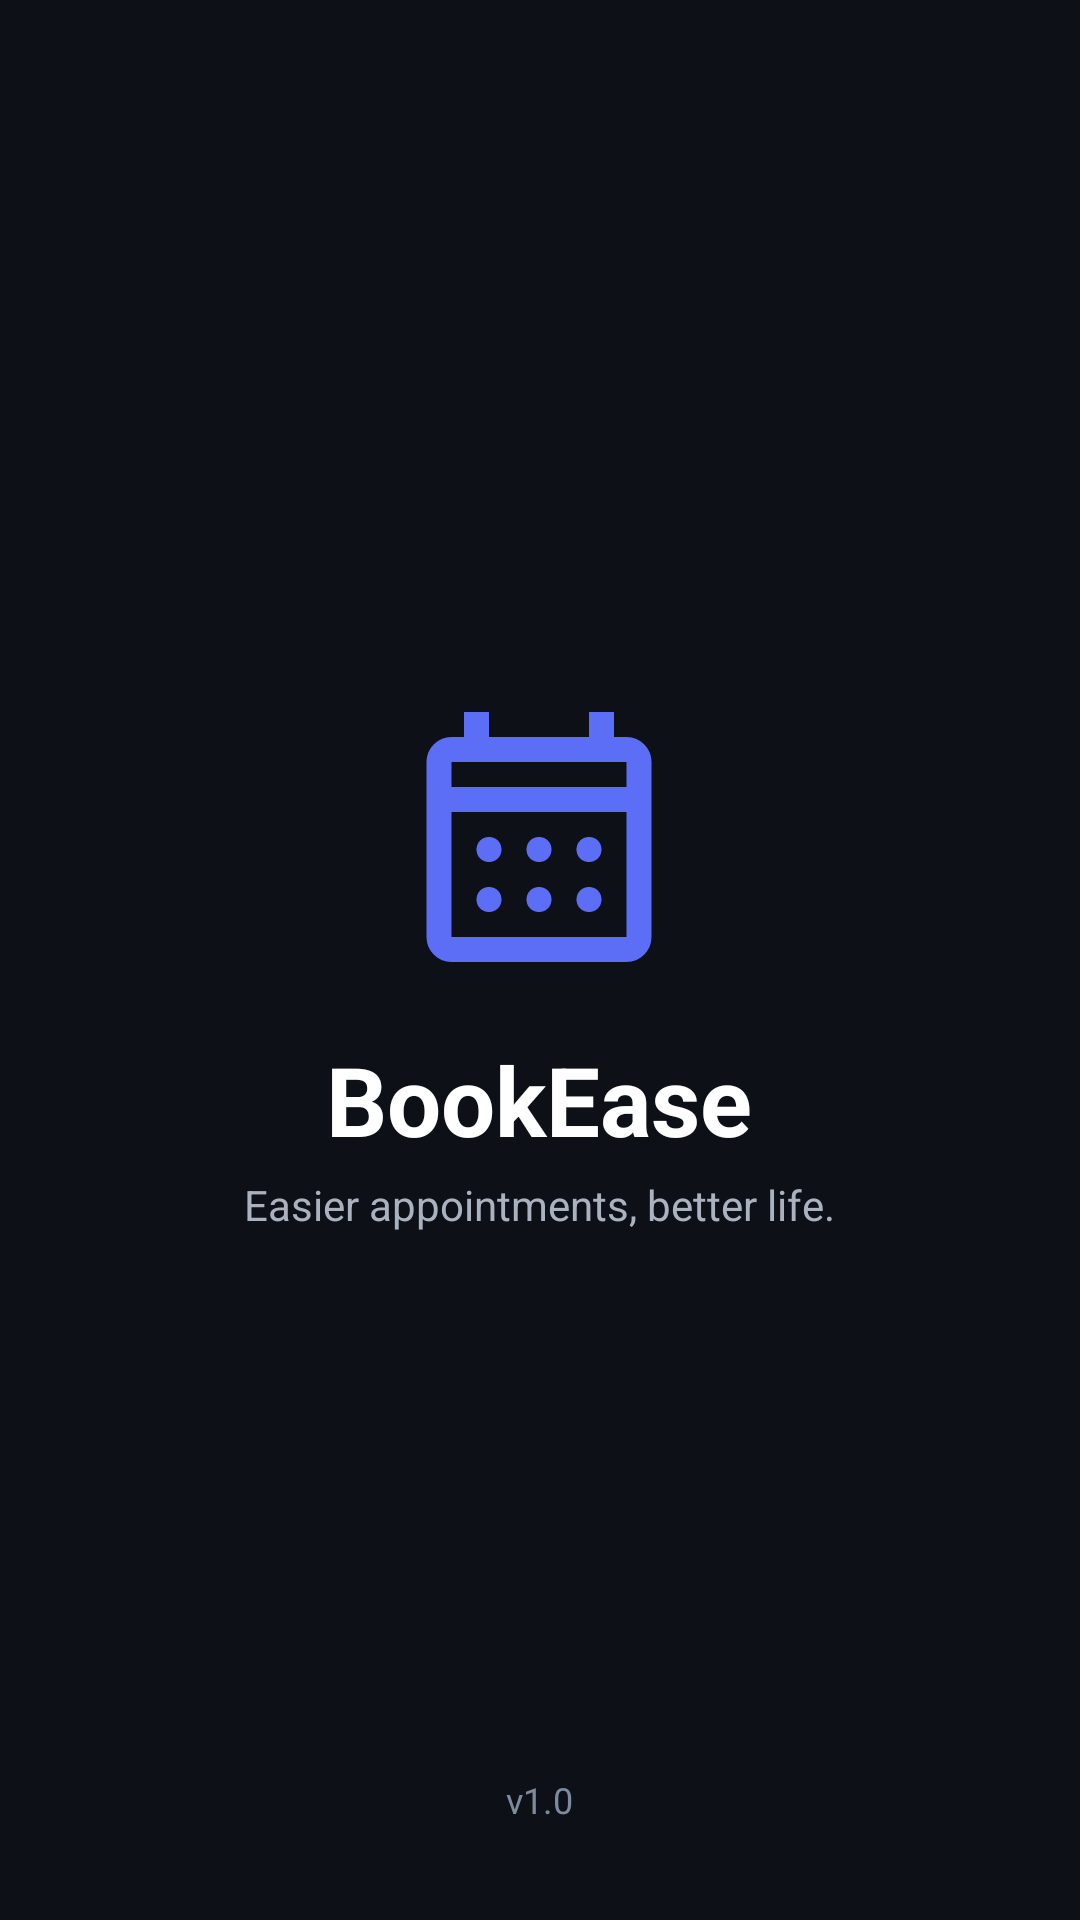

Named icons in this screenshot (1080px x 1920px) and their bounding boxes, (x1, y1, x2, y2):
booking: (426, 712, 652, 962)
